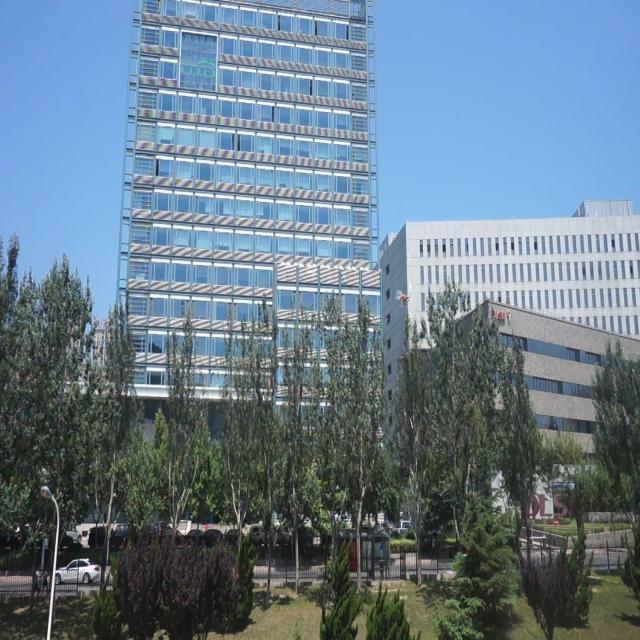drone: (394, 285, 414, 312)
